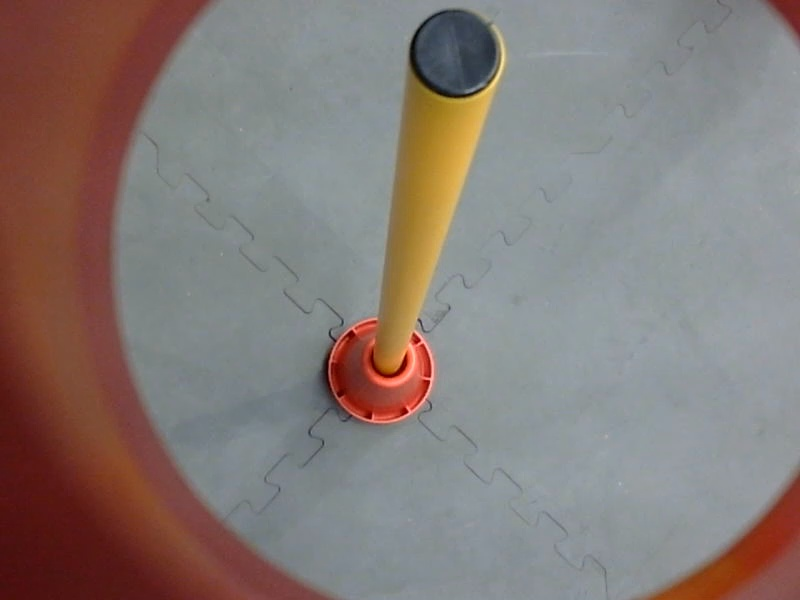tip: (399, 1, 512, 108)
